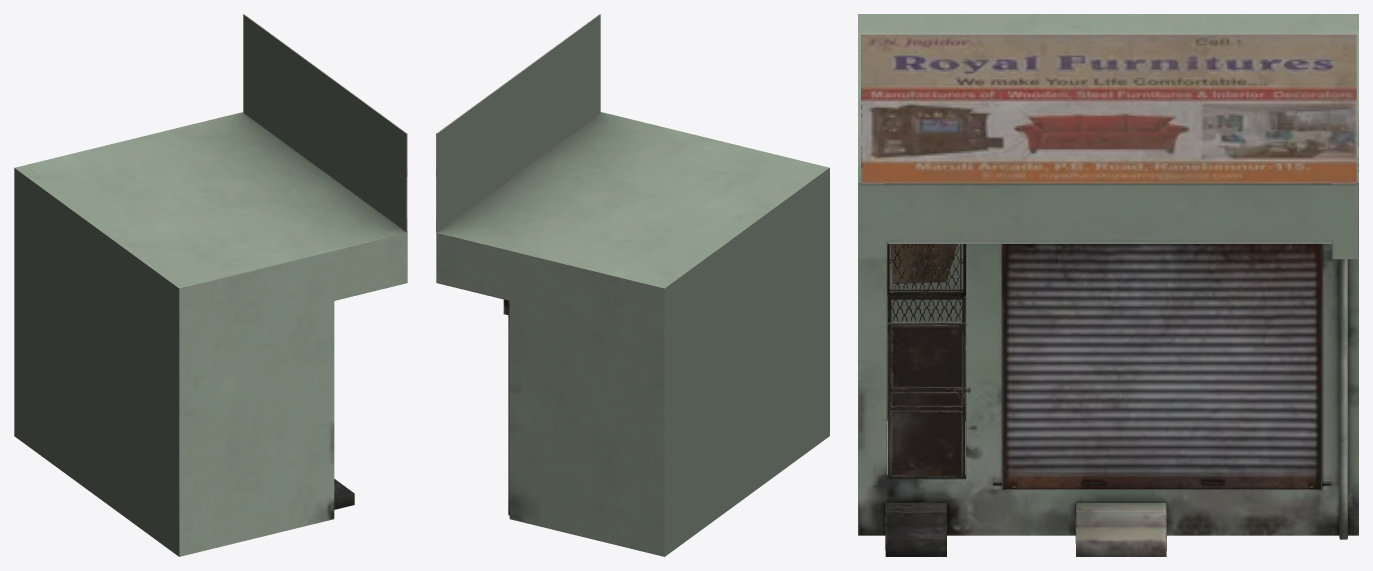
Rendered from prop-shop.9e5fb533.glb.
The picture shows the model from 3 angles, left to right: view 1: azimuth 30°, elevation 25°; view 2: azimuth 150°, elevation 25°; view 3: azimuth 270°, elevation 25°; orthographic projection. The views are drawn at different scales.
Visible parts, largest first — view 1: pCube5_shop_1_0; view 2: pCube5_shop_1_0; view 3: pCube5_shop_1_0.
Part boxes in pixels (bbox=[...]): pCube5_shop_1_0: bbox=[14, 14, 407, 556]; pCube5_shop_1_0: bbox=[436, 14, 829, 556]; pCube5_shop_1_0: bbox=[858, 14, 1358, 556].
Bounding box in the file's own units: 5.01 × 7.66 × 6.25.
1 material, 1 textured.
